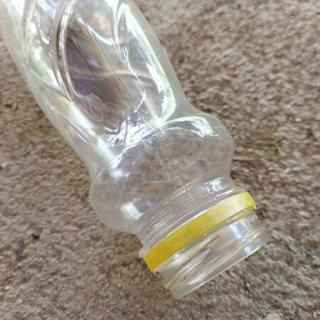Plastic-bottle: (1, 1, 271, 301)
